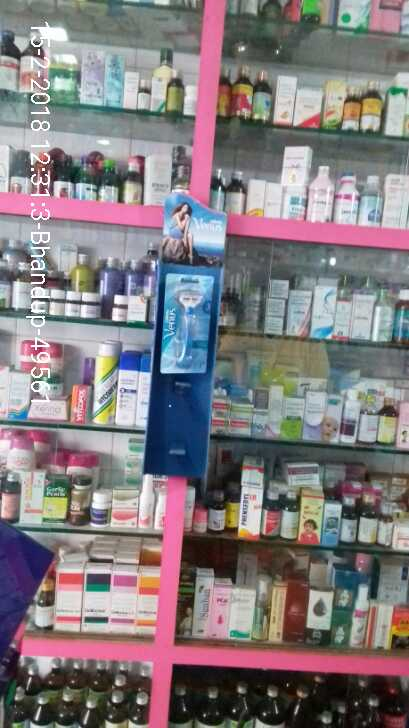venus: (162, 272, 214, 375)
